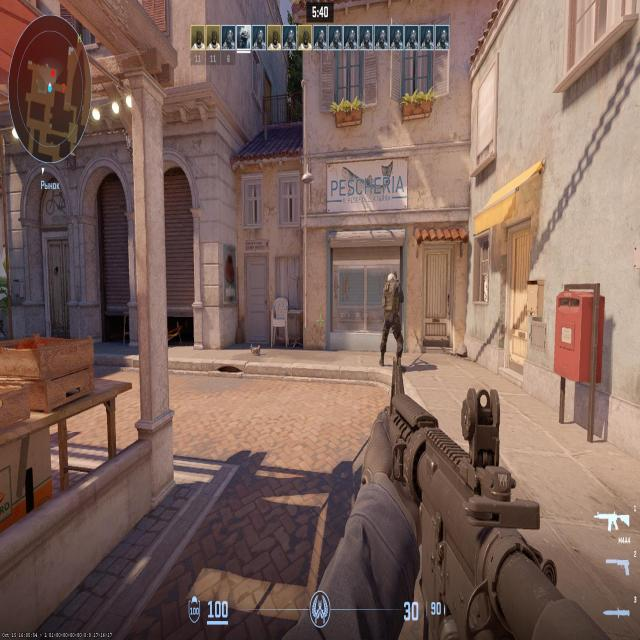CT: (386, 273, 399, 366)
CT_heat: (392, 273, 396, 282)
